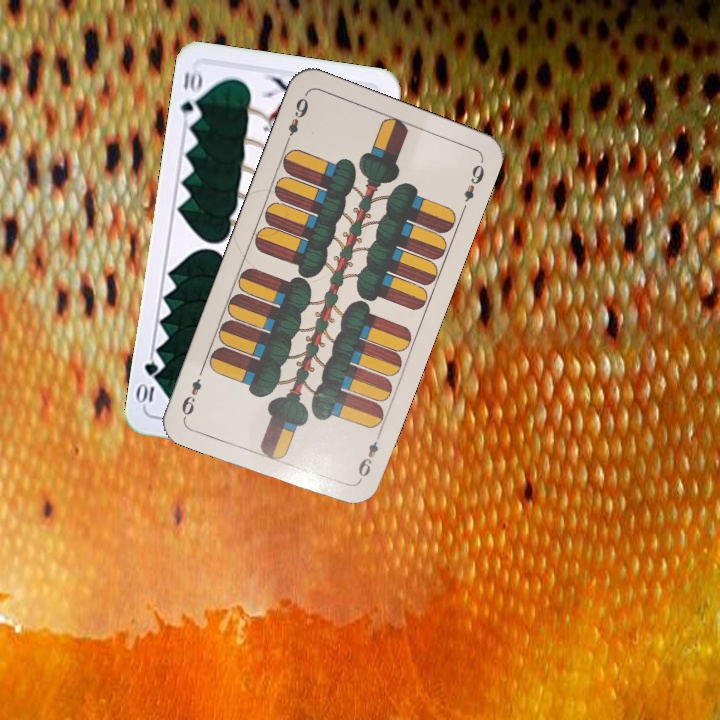E9: (353, 429, 383, 485), (281, 93, 311, 147)
G10: (176, 65, 205, 126)
